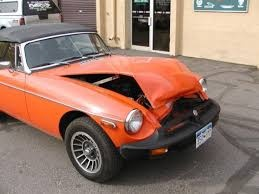Smashed: (103, 65, 217, 152)
